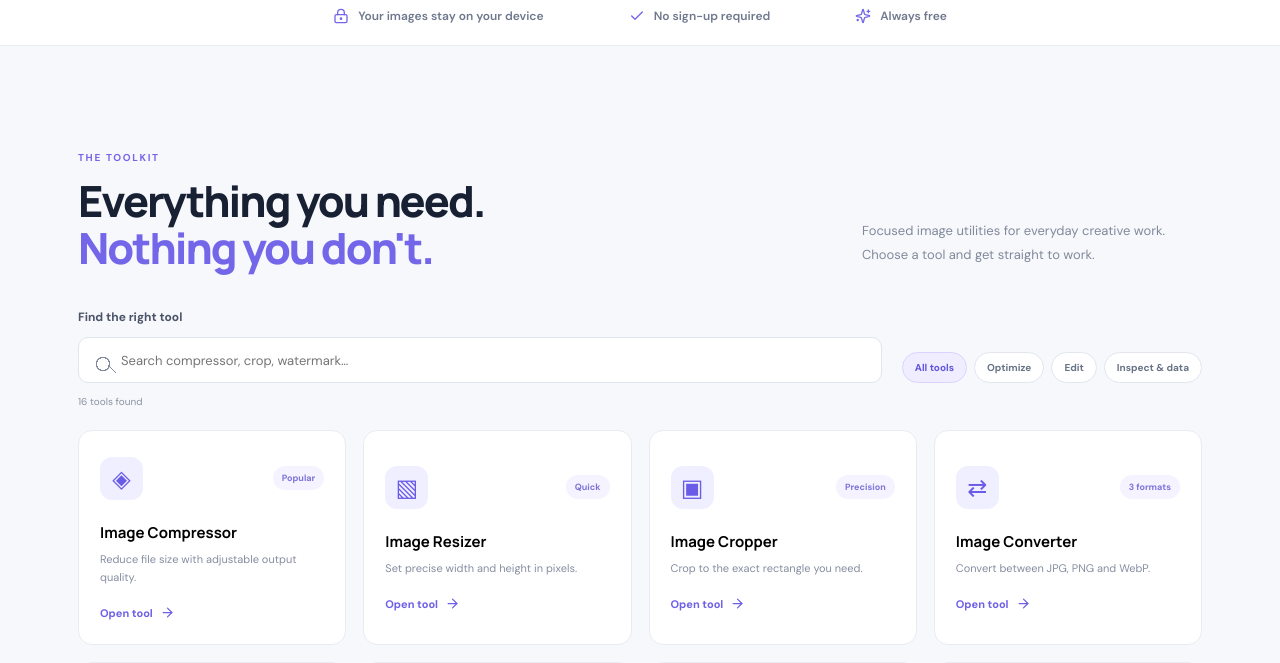
Test: PixelTools ease-of-use workflows › lets a visitor search for an image tool
The width and height of the screenshot is (1280, 663).
(page scrolled)
Type "cropper" into the search field labelled "Find the right tool".
click(480, 360); type("cropper")  # box top-left (78, 337), bottom-right (882, 383)
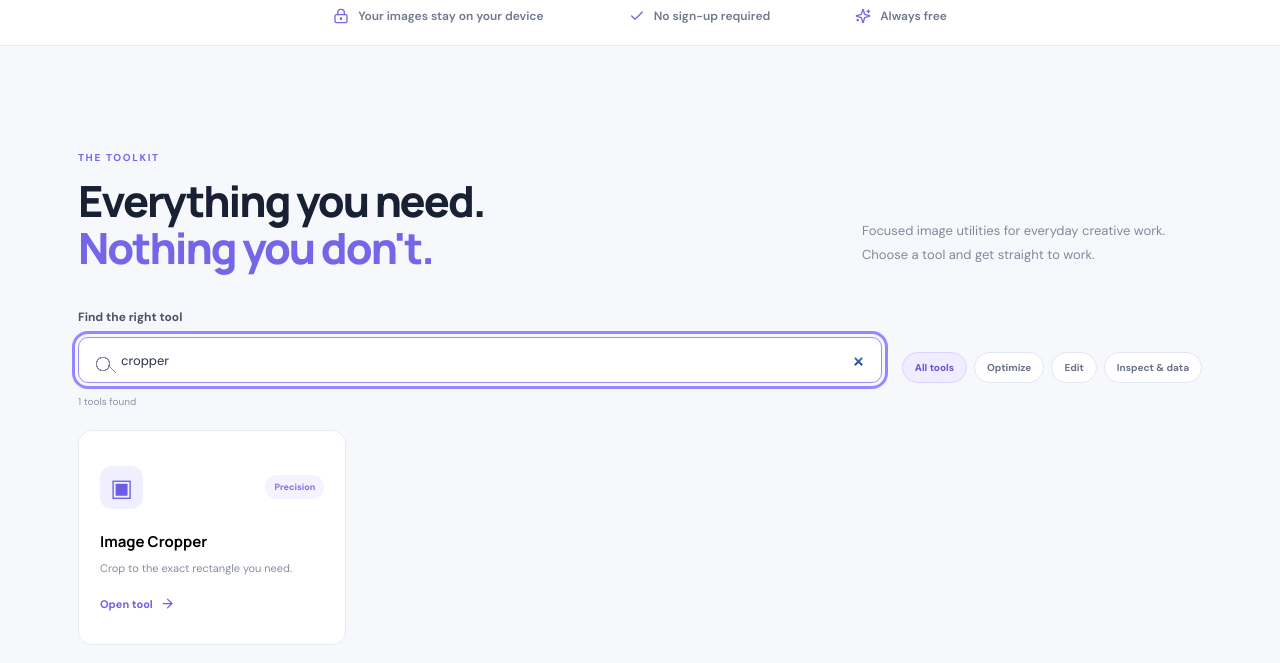
Expected: the button "Image Cropper" is shown, top-left (78, 430), bottom-right (346, 645)
Expected: the button "Image Compressor" is gone
Expected: the message reads "1 tools found", top-left (78, 395), bottom-right (136, 408)
